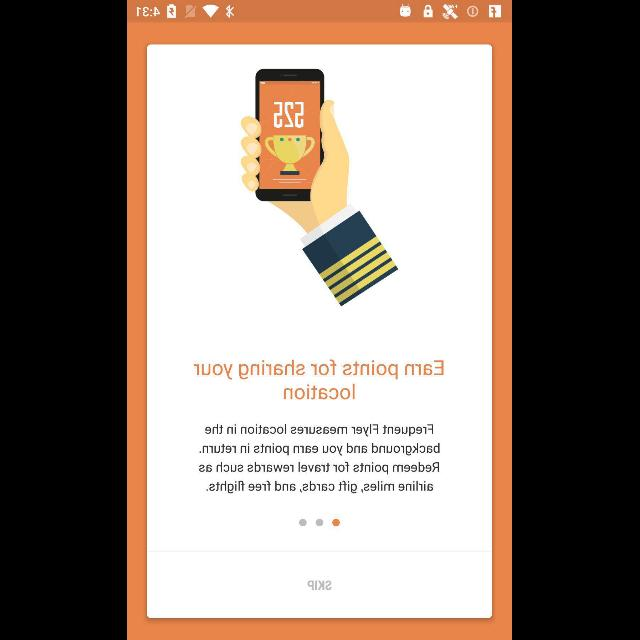image: (241, 69, 399, 307)
pageindicator: (300, 518, 340, 526)
panel: (148, 44, 492, 618)
text: (200, 424, 440, 494), (194, 358, 444, 399)
textbutton: (148, 552, 492, 618)
uppertaskbar: (128, 0, 512, 22)
